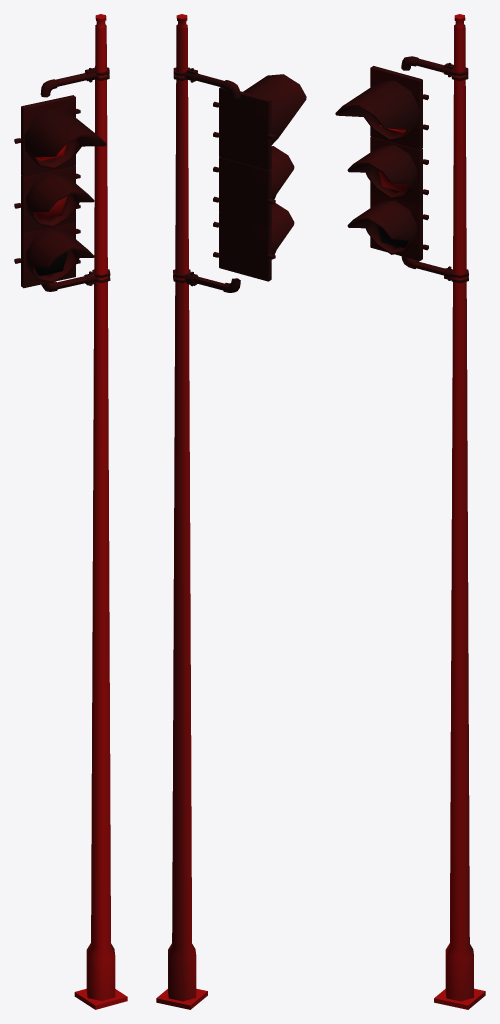
File: TrafficLight001.glb
3 views of the same model, side by side, from view 1: azimuth 30°, elevation 25°; view 2: azimuth 150°, elevation 25°; view 3: azimuth 330°, elevation 25° (orthographic).
Visible parts, largest first — view 1: TrafficLight001; view 2: TrafficLight001; view 3: TrafficLight001.
Boxes of the visible parts, x1,y1,x2,y2 form: TrafficLight001: [14, 14, 127, 1009]; TrafficLight001: [156, 14, 306, 1009]; TrafficLight001: [335, 14, 485, 1009].
Bounding box in the file's own units: 3.58 × 31.38 × 2.99.
